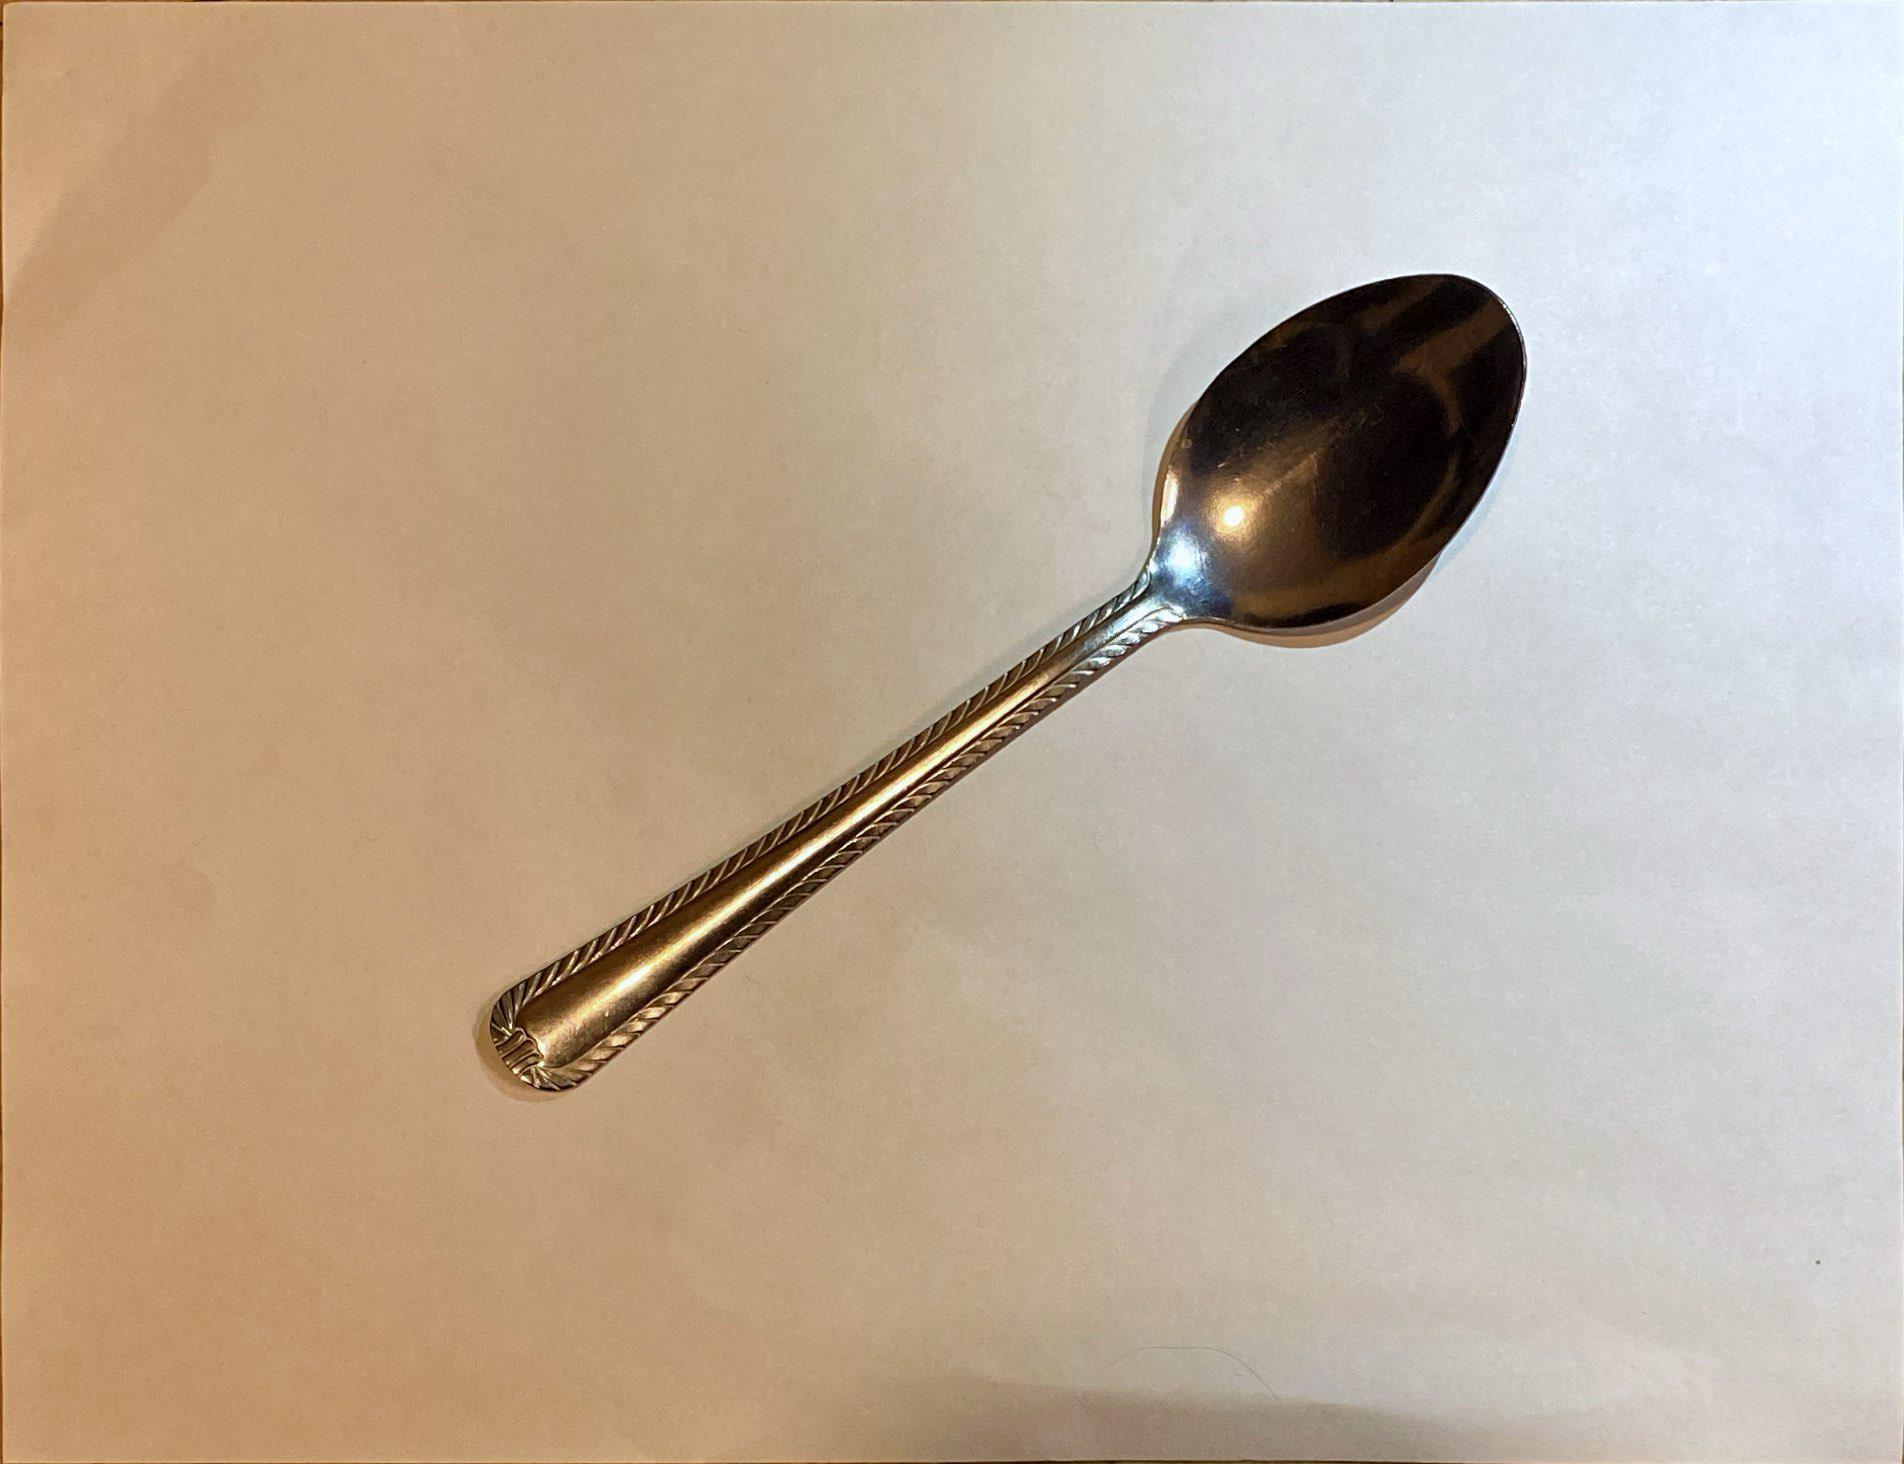Spoon: (454, 168, 1540, 1206)
